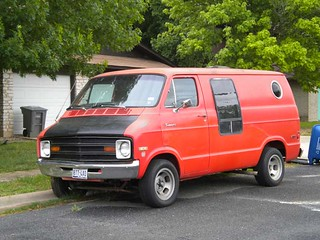van: (35, 66, 303, 208)
